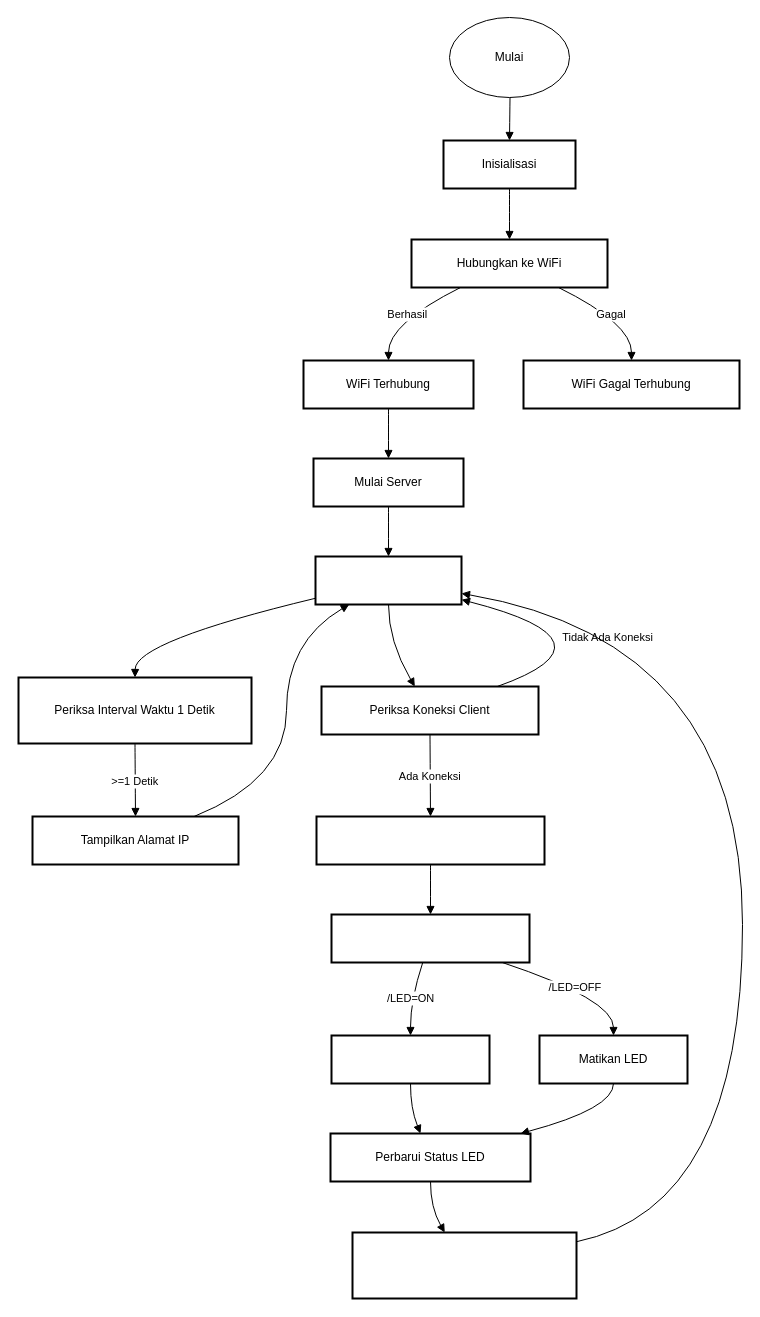
Some shapes in this 760 by 1317 pixel diagram are drawn without their labels. Each missing label, with the centre of its shape:
"Analisa Permintaan" belongs at [430,938].
"Baca Permintaan Client" belongs at [430,840].
"Hidupkan LED" belongs at [410,1059].
"Kirim Respons HTML ke Client" belongs at [464,1265].
"Loop Utama" belongs at [388,580].
